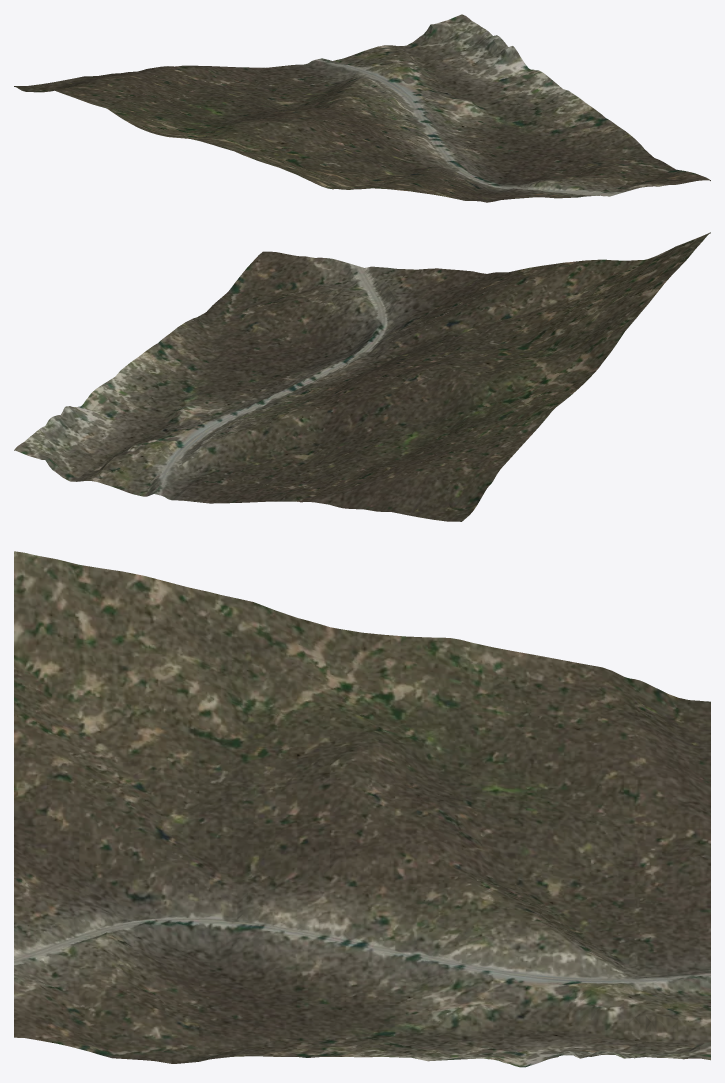
The picture shows the model from 3 angles, top to bottom: view 1: azimuth 30°, elevation 25°; view 2: azimuth 150°, elevation 25°; view 3: azimuth 270°, elevation 25°; orthographic projection. The views are drawn at different scales.
Size of the model in its own units: 500 by 175 by 481.
Materials: 1 (1 with a texture image).
